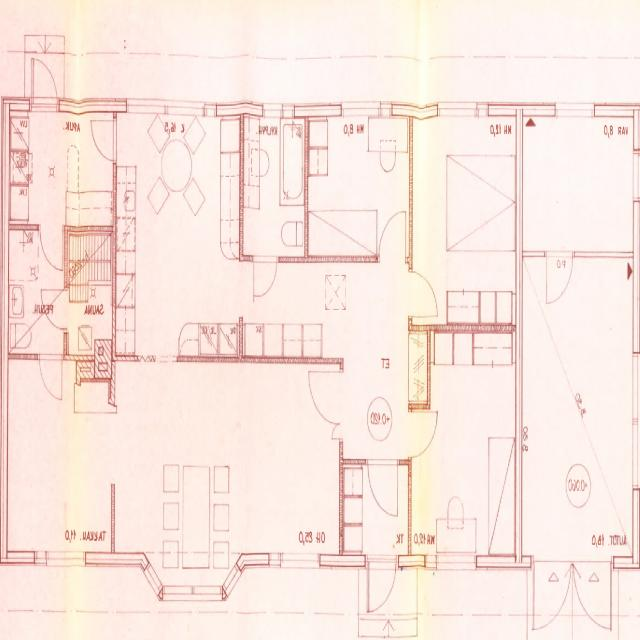door: (572, 554, 611, 634), (534, 554, 572, 634), (368, 554, 396, 616), (369, 459, 398, 516), (310, 372, 342, 422), (32, 58, 58, 115), (408, 411, 438, 456), (380, 211, 406, 262), (408, 272, 437, 316), (547, 252, 572, 302), (90, 120, 116, 160), (254, 257, 277, 302), (40, 227, 63, 272), (43, 290, 68, 329), (40, 358, 62, 402), (634, 154, 640, 198), (331, 424, 343, 439)
